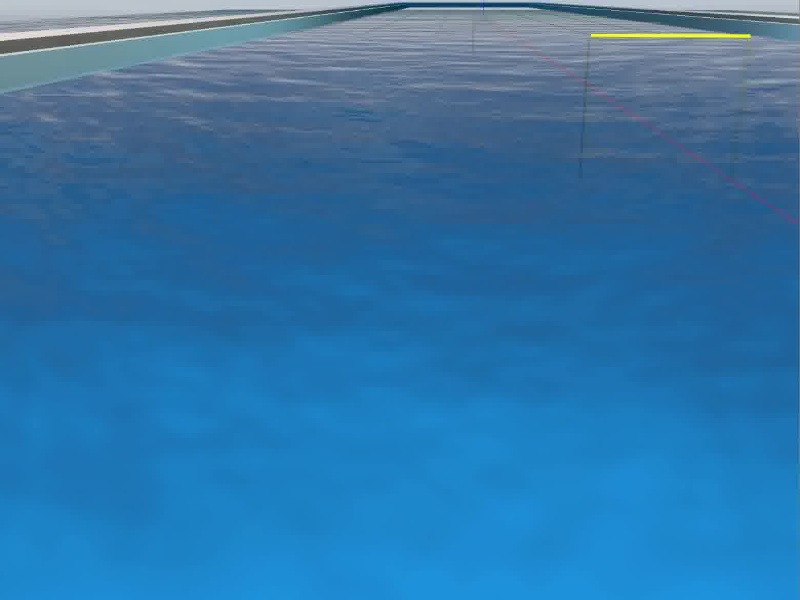gate: (580, 32, 752, 180)
